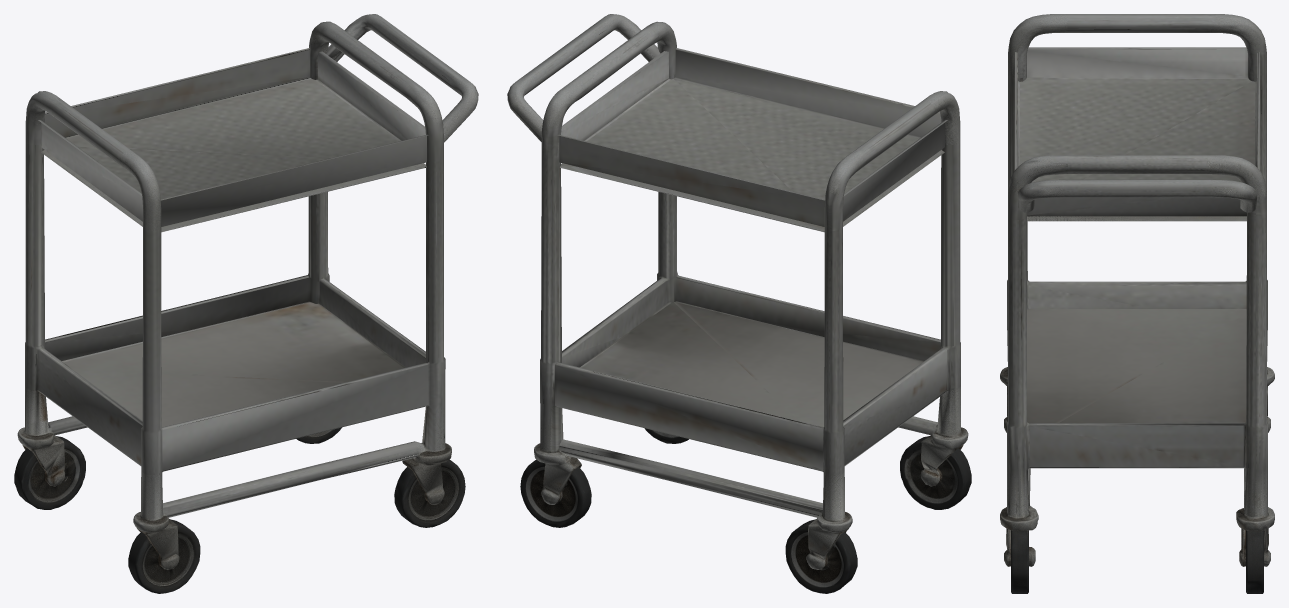
File: HospitalCart.fbx
3 renders of one model, left to right at view 1: azimuth 30°, elevation 25°; view 2: azimuth 150°, elevation 25°; view 3: azimuth 270°, elevation 25°, orthographic. The views are drawn at different scales.
Visible parts, largest first — view 1: mesh_node; view 2: mesh_node; view 3: mesh_node.
Part boxes in pixels (x1=…): mesh_node: x1=14, y1=14, x2=478, y2=593; mesh_node: x1=507, y1=14, x2=971, y2=593; mesh_node: x1=1000, y1=14, x2=1274, y2=593.
Bounding box in the file's own units: 166 × 191 × 108.
1 material, 1 textured.
